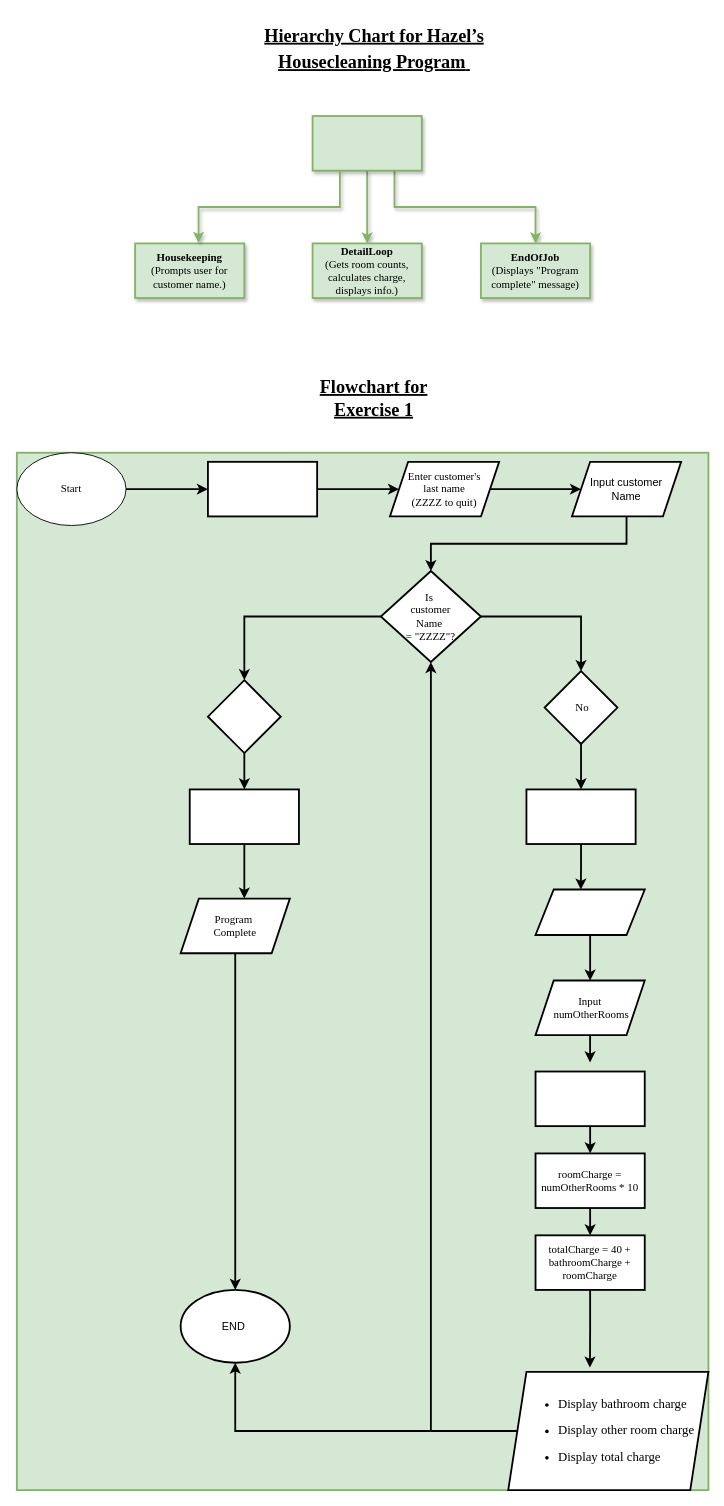
Some shapes in this 724 by 1506 pixel diagram are drawn without their labels. Here are the shapes that lost their labels. From the top down, the centre of each, then its label:
At (368,144): "Main (Declares global variables and calls all other modules.)".
At (262,488): "Call Housekeeping".
At (244,716): "YES".
At (243,816): "Go to end of job".
At (580,816): "Go to DetailLoop".
At (589,911): "Inpu t numBathrooms".
At (589,1098): "bathroomCharge = numBathrooms * 15".
